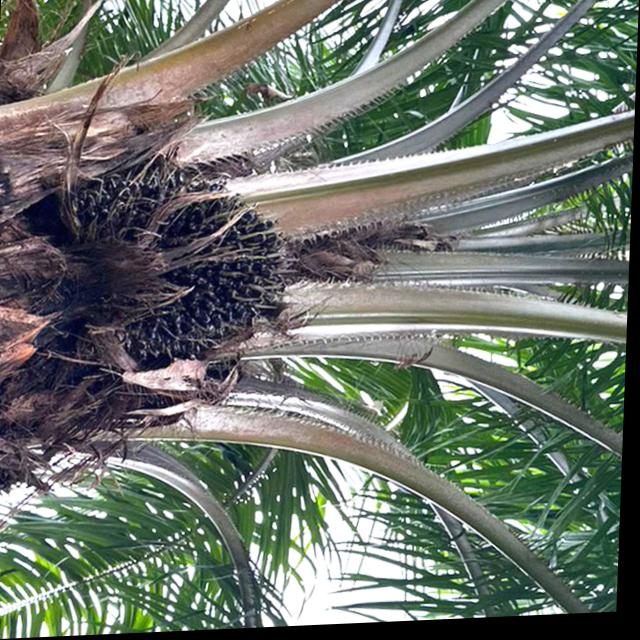unripe: (79, 147, 305, 371)
